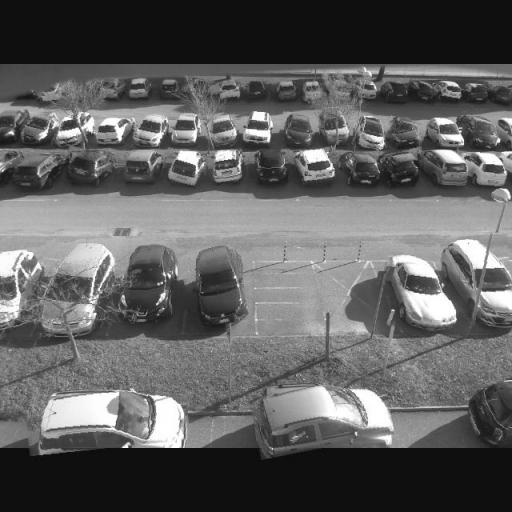busy: (25, 386, 189, 452), (252, 380, 392, 454), (441, 233, 512, 327), (380, 254, 458, 332), (181, 242, 248, 329), (39, 242, 115, 313), (110, 243, 178, 322), (468, 381, 512, 445), (0, 250, 36, 319), (6, 152, 68, 192), (62, 148, 114, 188), (294, 146, 340, 188), (160, 150, 206, 190), (421, 152, 470, 186), (338, 152, 384, 188), (117, 150, 163, 186), (128, 110, 170, 148), (250, 150, 292, 188), (426, 129, 468, 167), (380, 152, 422, 189), (34, 73, 78, 108), (206, 148, 246, 186), (466, 152, 508, 188), (384, 126, 422, 165), (458, 117, 502, 150), (384, 118, 426, 151), (17, 111, 57, 145), (425, 118, 466, 151), (352, 117, 392, 150), (279, 112, 316, 147), (51, 114, 90, 147), (90, 118, 132, 148), (203, 115, 240, 149), (240, 112, 274, 146), (167, 114, 203, 146), (318, 111, 350, 147), (90, 78, 124, 102), (406, 80, 438, 104), (325, 77, 355, 102), (212, 80, 242, 104), (0, 113, 24, 143), (271, 81, 302, 103), (154, 78, 184, 100), (123, 79, 154, 100), (300, 81, 327, 105), (186, 78, 214, 101), (435, 82, 464, 104), (461, 84, 491, 105), (243, 80, 269, 104), (0, 151, 17, 187), (381, 82, 408, 104), (354, 80, 380, 102), (487, 85, 512, 106), (497, 120, 511, 148)
